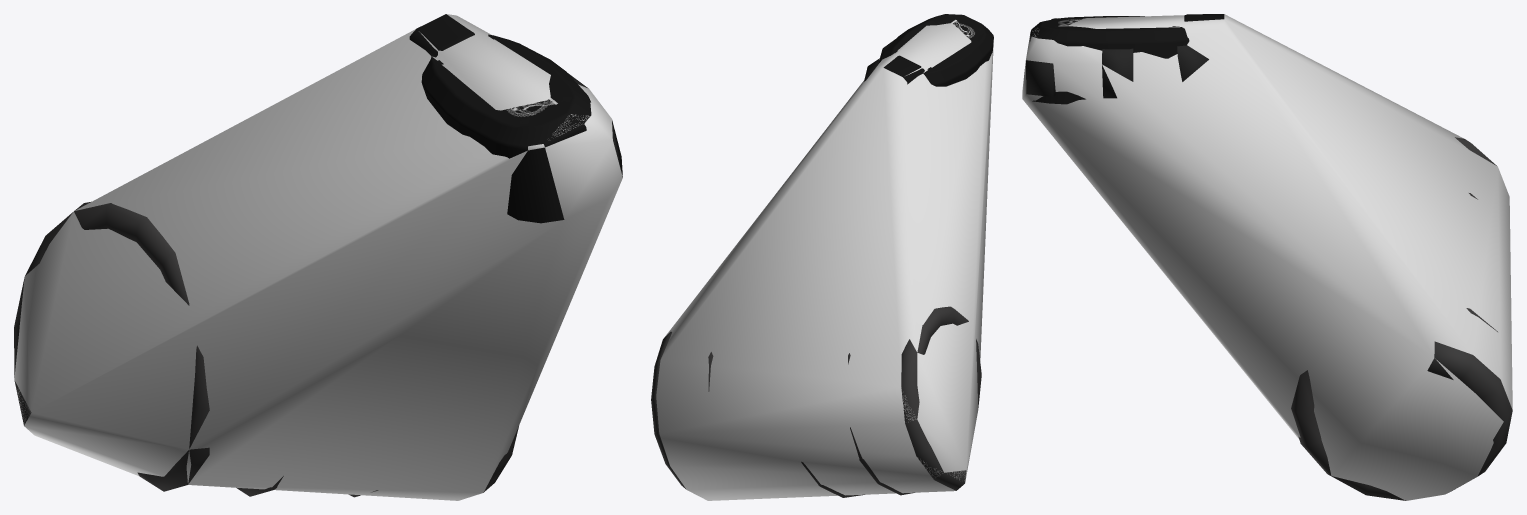
3 views of the same model, side by side, from view 1: azimuth 30°, elevation 25°; view 2: azimuth 150°, elevation 25°; view 3: azimuth 270°, elevation 25° (orthographic). The views are drawn at different scales.
Visible parts, largest first — view 1: grille_stampede_tail_r_1_01_col, grille_stampede_tail_r_1_01; view 2: grille_stampede_tail_r_1_01_col, grille_stampede_tail_r_1_01; view 3: grille_stampede_tail_r_1_01_col, grille_stampede_tail_r_1_01.
Part boxes in pixels (x1,y1,x2,y2): grille_stampede_tail_r_1_01_col: [14, 14, 622, 500]; grille_stampede_tail_r_1_01: [14, 14, 622, 497]; grille_stampede_tail_r_1_01_col: [656, 23, 993, 500]; grille_stampede_tail_r_1_01: [651, 14, 993, 497]; grille_stampede_tail_r_1_01_col: [1022, 14, 1512, 500]; grille_stampede_tail_r_1_01: [1026, 14, 1512, 500].
Size of the model in its own units: 0.1998 by 0.2401 by 0.2424.
Materials: 2 (2 with a texture image).
